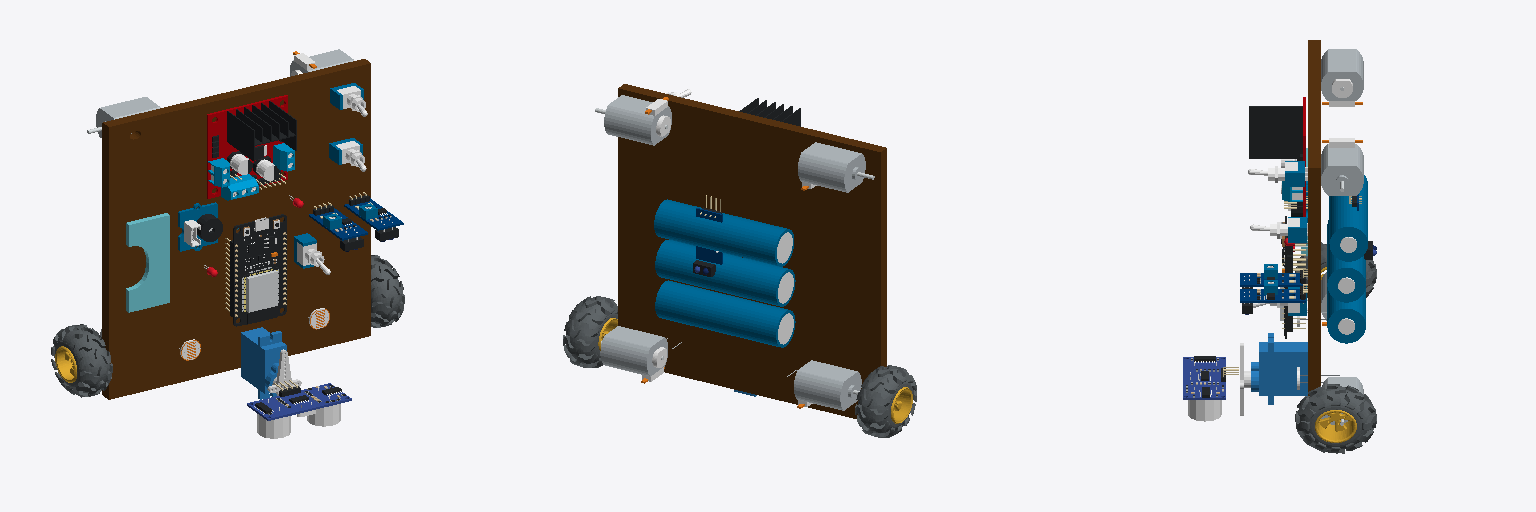
The model's file is tinker.obj.
3 renders of one model, left to right at view 1: azimuth 30°, elevation 25°; view 2: azimuth 150°, elevation 25°; view 3: azimuth 270°, elevation 25°, orthographic.
Visible parts, largest first — view 1: obj_0; view 2: obj_0; view 3: obj_0.
Part boxes in pixels (left/top/right/bottom): obj_0: left=51, top=49, right=404, bottom=438; obj_0: left=563, top=84, right=916, bottom=437; obj_0: left=1183, top=40, right=1376, bottom=453.
Bounding box in the file's own units: 175 × 159 × 90.